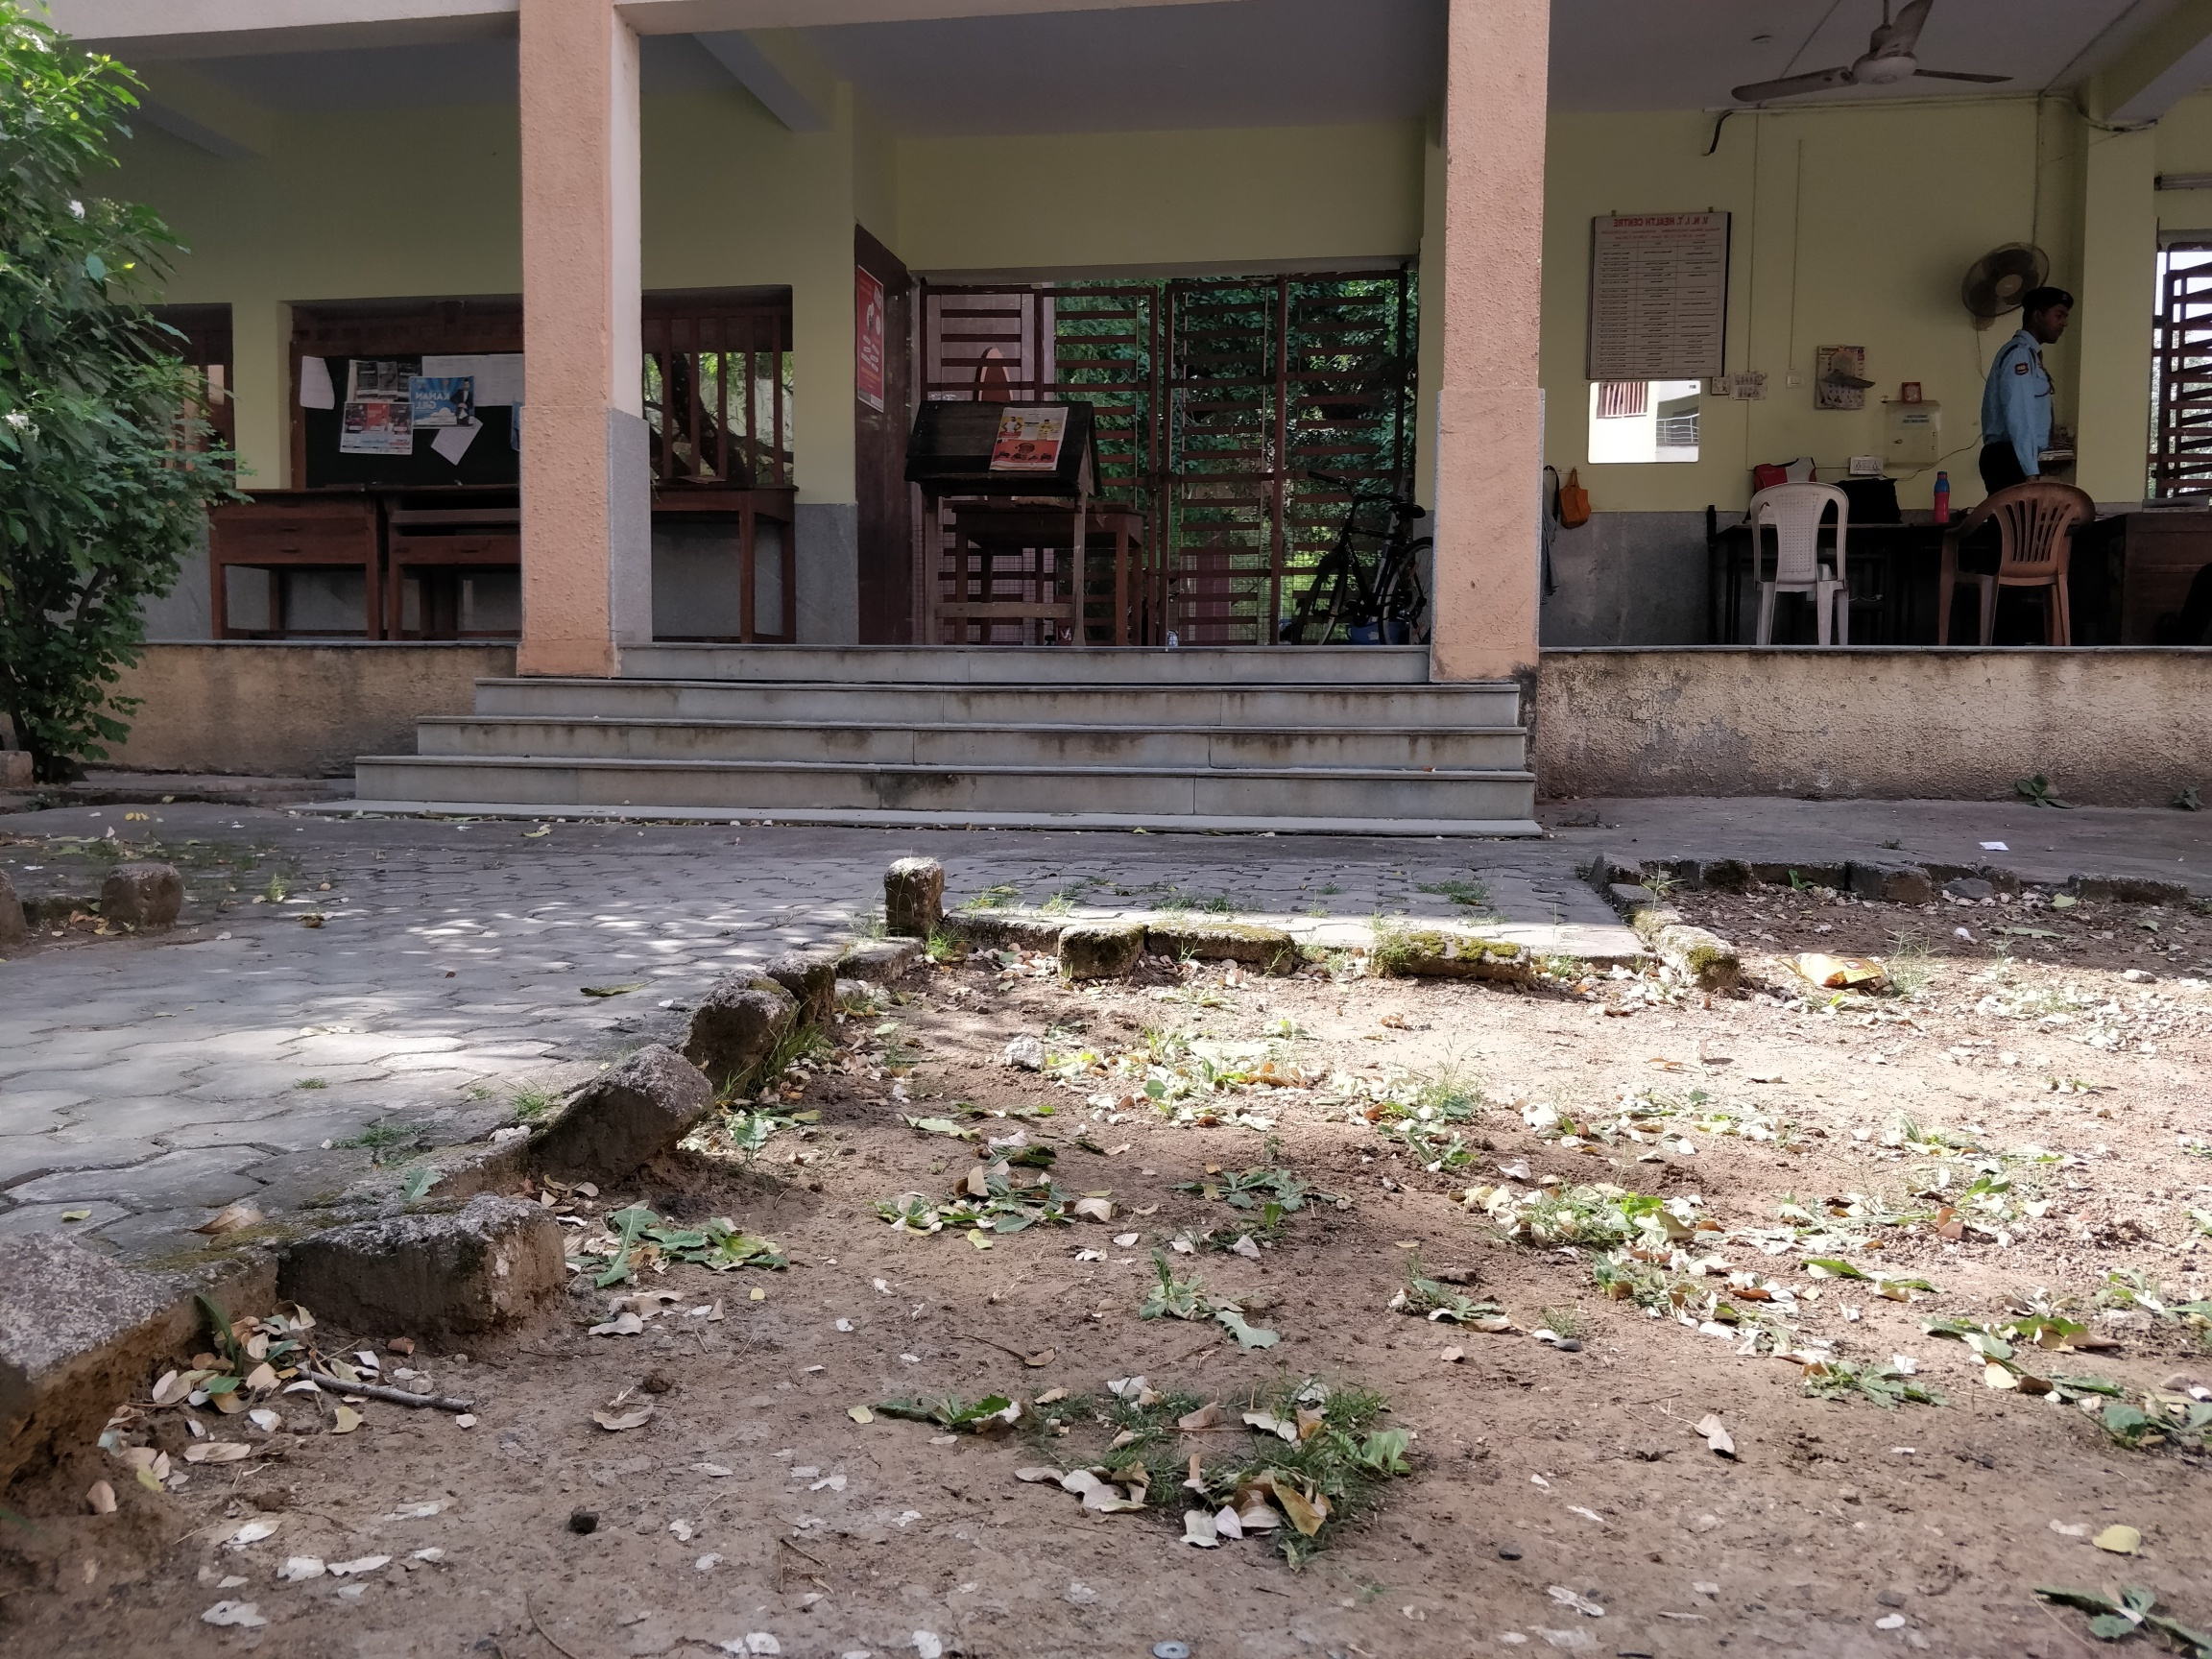stairs_up: (345, 633, 1561, 836)
